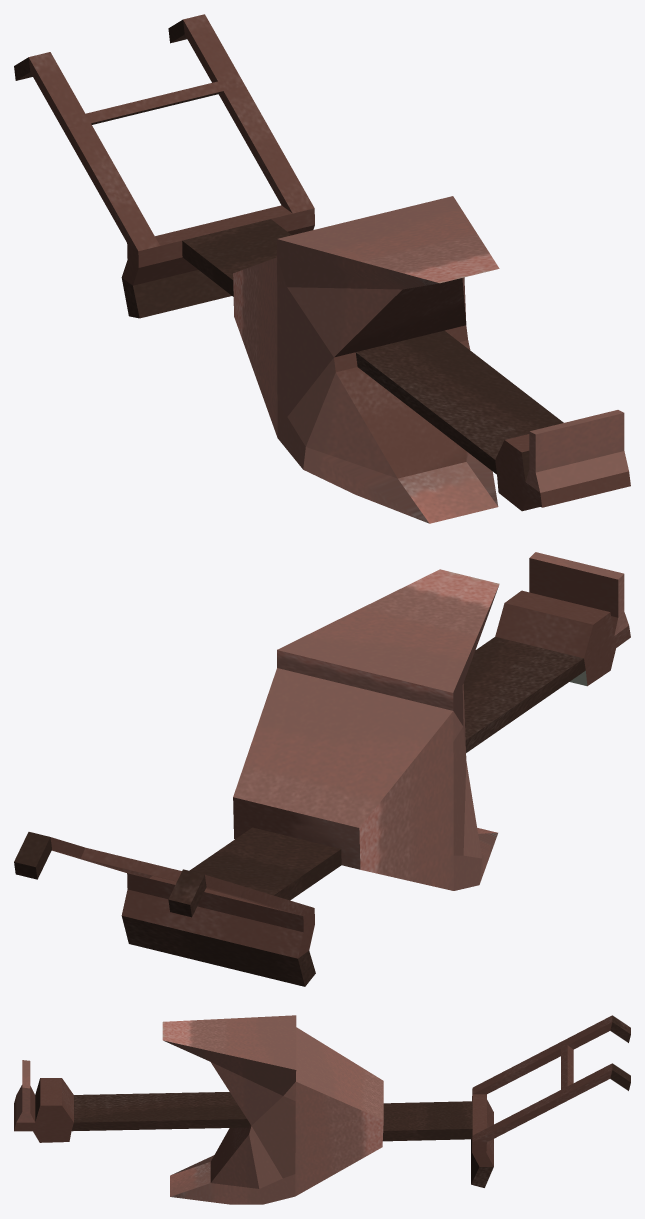
File: Plow.fbx
3 views of the same model, one above another, from view 1: azimuth 30°, elevation 25°; view 2: azimuth 150°, elevation 25°; view 3: azimuth 270°, elevation 25° (orthographic). The views are drawn at different scales.
Parts seen in each view (by area): view 1: Cube; view 2: Cube; view 3: Cube.
Part boxes in pixels (bbox=[...]): Cube: bbox=[14, 14, 630, 523]; Cube: bbox=[14, 552, 630, 986]; Cube: bbox=[14, 1015, 630, 1204].
Bounding box in the file's own units: 83.73 × 111 × 399.
1 material, 1 textured.
